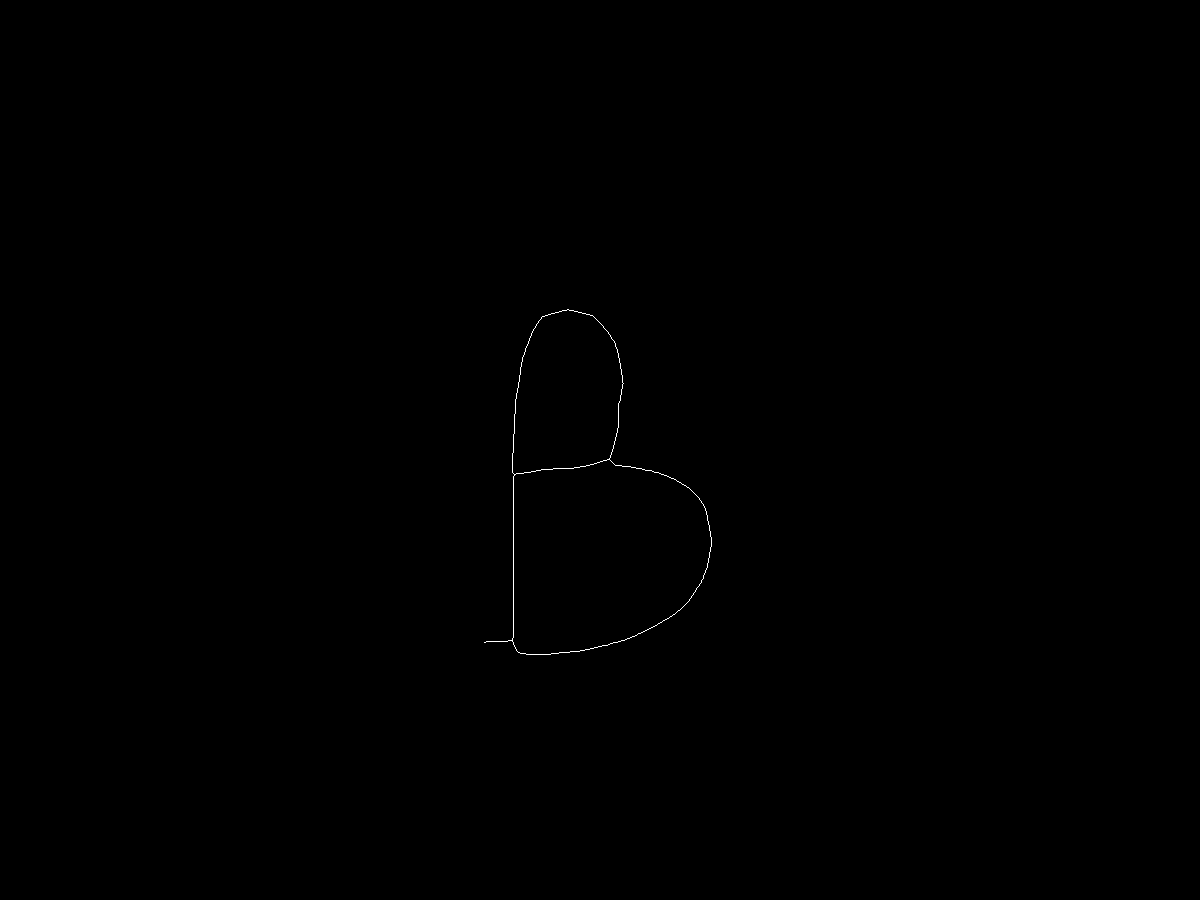dian1: (526, 327, 537, 338)
dian2: (506, 467, 521, 482)
dian3: (516, 648, 526, 658)
dian4: (603, 454, 621, 472)
